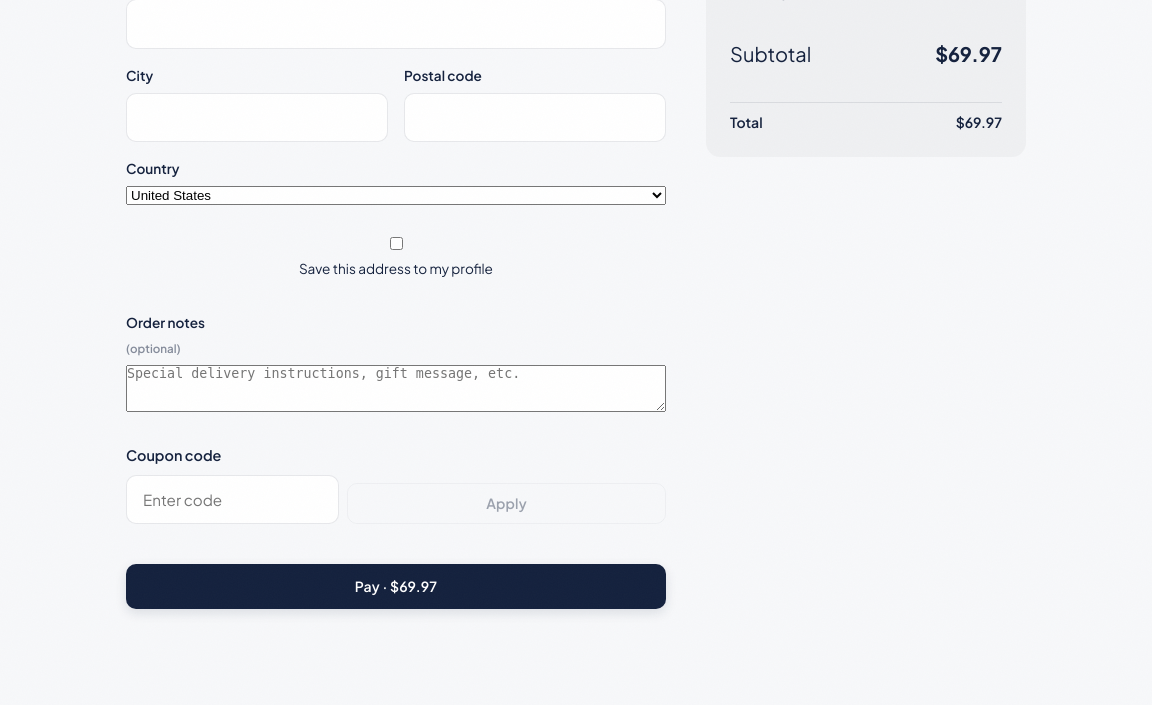
Test: CheckoutPage — coupon › shows error for invalid coupon
(page scrolled)
Type "BADCODE" into the field with placeholder "Enter code".
click(232, 500); type("BADCODE")  # box [126,475,339,524]
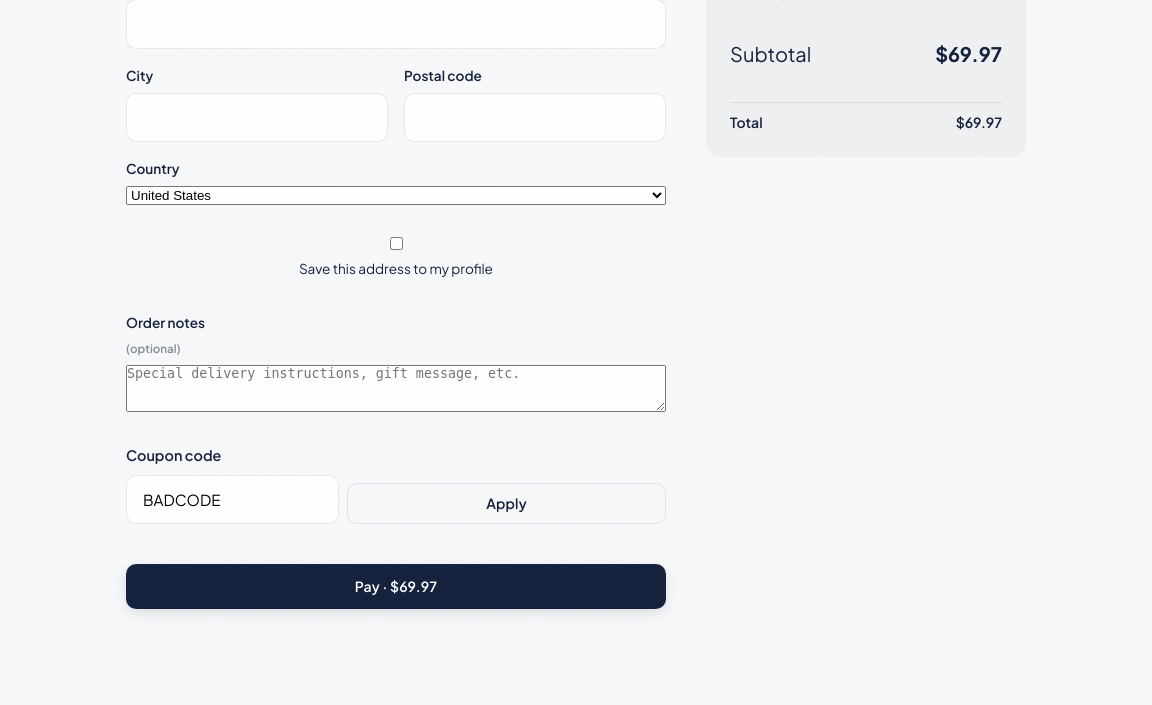
Click the button "Apply".
click(506, 504)  # box [347,483,666,524]
(page scrolled)
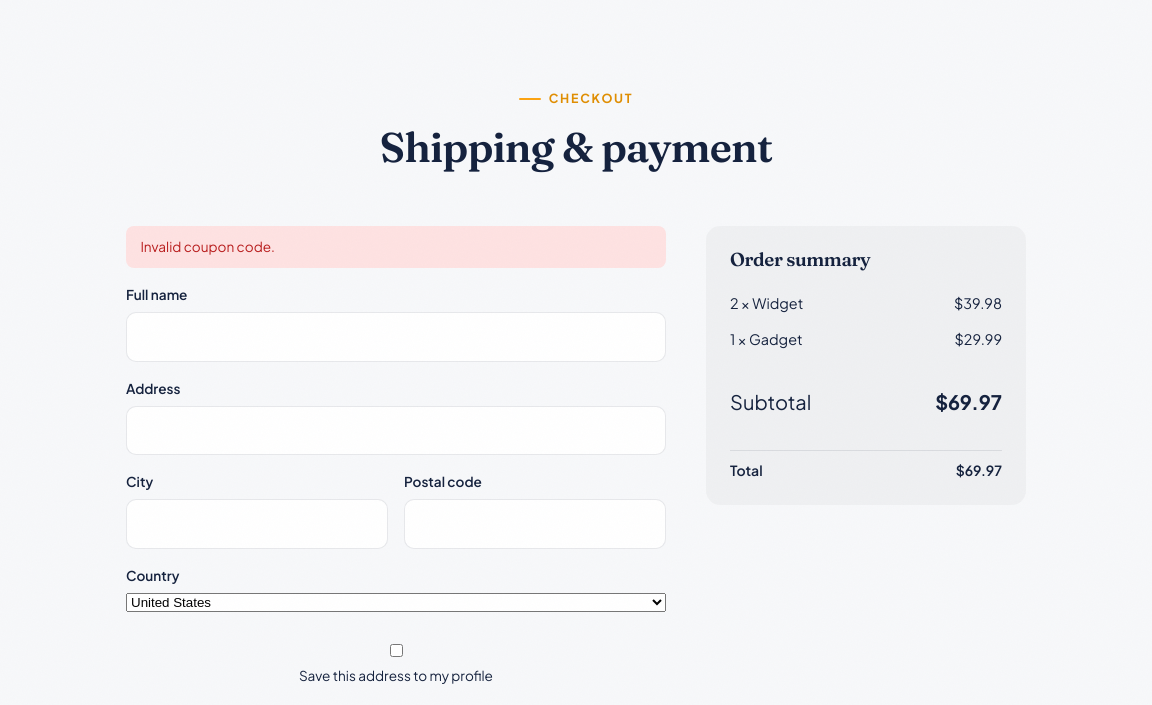
Expected: the text "Invalid coupon code." is shown, [126,226,666,268]
